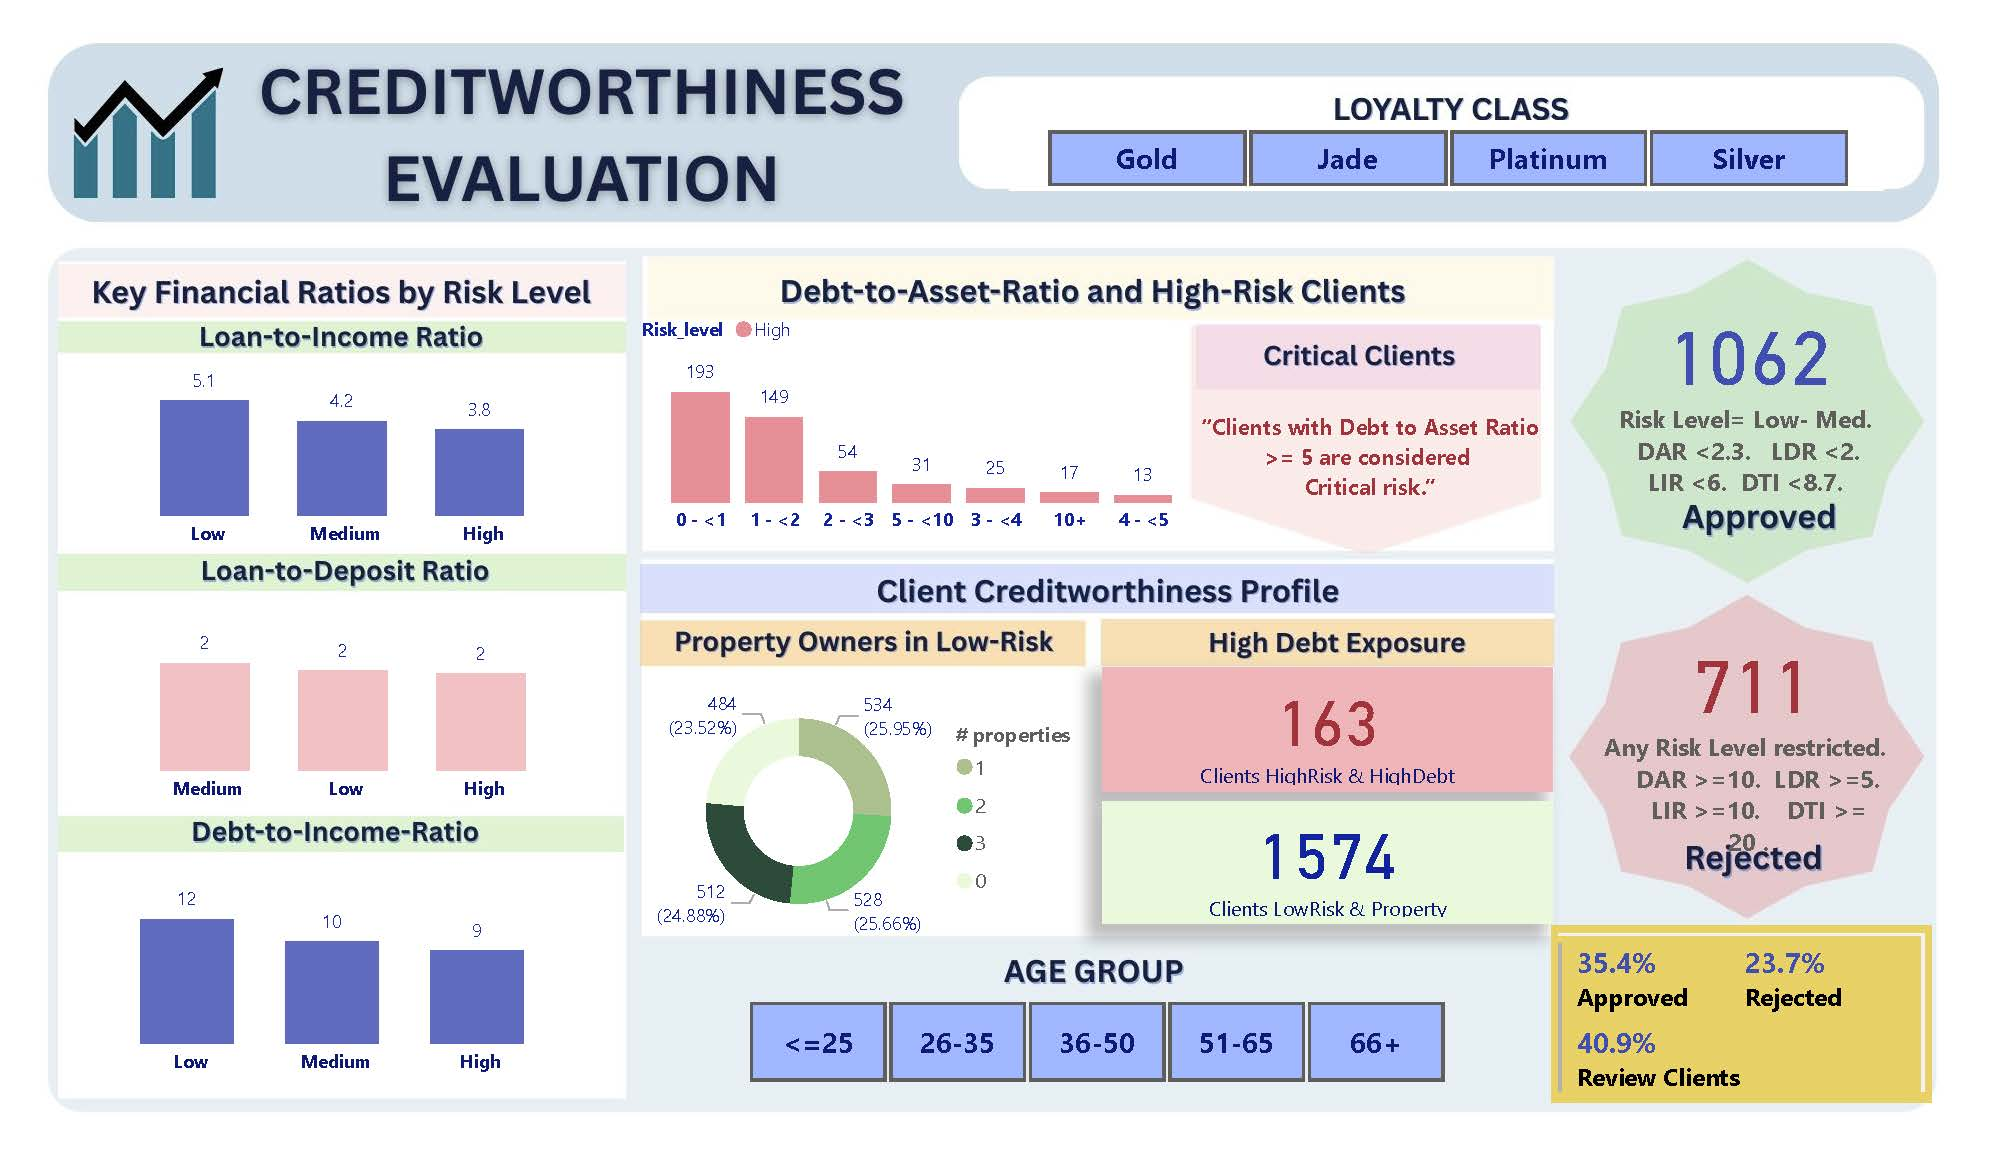

This screenshot's page, from the dashboard's own definition file:
{"tool":"powerbi","page":{"name":"Creditworthiness","canvas":[1280,720],"ordinal":2},"visuals":[{"type":"slicer","fields":{"Values":["Banking_final.loyalty_classification"]},"box":[648.7,55.7,583.1,47],"z":0},{"type":"clusteredColumnChart","fields":{"Category":["Banking_final.risk_level"],"Y":["Calculations.Loan_to_income_ratio_Avg"]},"box":[41.4,206.9,331.1,143.4],"z":1000},{"type":"slicer","fields":{"Values":["Banking_final.age_group"]},"box":[450.3,637.1,512.6,66.6],"z":2000},{"type":"clusteredColumnChart","fields":{"Category":["Banking_final.risk_level"],"Y":["Calculations.Loan_to_Deposit_AVG"]},"box":[40.9,377.6,331.8,142.4],"z":3000},{"type":"clusteredColumnChart","fields":{"Category":["Banking_final.risk_level"],"Y":["Calculations.Debt_to_income_AVG"]},"box":[26.1,551.7,347.5,150.6],"z":4000},{"type":"textbox","box":[768.7,244.9,241.3,96.5],"z":6000},{"type":"donutChart","fields":{"Category":["Banking_final.properties_owned"],"Y":["CountNonNull(Banking_final.client_id)"],"Series":["Banking_final.risk_level"]},"box":[398.7,421.9,312.8,189.5],"z":7000},{"type":"card","fields":{"Values":["Calculations.Clients_HighRisk_HighDebt"]},"box":[711,421.4,299.7,82.5],"z":8000},{"type":"card","fields":{"Values":["Calculations.Clients_LowRisk_With_Property"]},"box":[711,509.7,299.7,82.5],"z":9000},{"type":"card","fields":{"Values":["Calculations.Approved_Clients"]},"box":[1040.6,79.8,202.5,277.9],"z":10000},{"type":"card","fields":{"Values":["Calculations.Rejected_Clients"]},"box":[1028.7,304.5,230.6,269],"z":11000},{"type":"multiRowCard","fields":{"Values":["Calculations.Pct_Approved_Clients","Calculations.Pct_Rejected_Clients","Calculations.Pct_Review_Clients"]},"box":[1009.5,592.7,254.2,118.2],"z":12000},{"type":"clusteredColumnChart","fields":{"Category":["Banking_final.Debt_to_Asset_Bin"],"Y":["CountNonNull(Banking_final.client_id)"],"Series":["Banking_final.risk_level"]},"box":[399.1,175.9,384.3,165.5],"z":13000}]}

Visuals, with their boxes in screenshot pixels (x1, y1, x2, y2), scaled from the page's 1280x720 canvas onto the 1992x1152 screenshot:
slicer - Banking_final.loyalty_classification: locate(1010, 89, 1917, 164)
clusteredColumnChart - Banking_final.risk_level x Calculations.Loan_to_income_ratio_Avg: locate(64, 331, 580, 560)
slicer - Banking_final.age_group: locate(701, 1019, 1499, 1126)
clusteredColumnChart - Banking_final.risk_level x Calculations.Loan_to_Deposit_AVG: locate(64, 604, 580, 832)
clusteredColumnChart - Banking_final.risk_level x Calculations.Debt_to_income_AVG: locate(41, 883, 581, 1124)
textbox: locate(1196, 392, 1572, 546)
donutChart - Banking_final.properties_owned x CountNonNull(Banking_final.client_id): locate(620, 675, 1107, 978)
card - Calculations.Clients_HighRisk_HighDebt: locate(1106, 674, 1573, 806)
card - Calculations.Clients_LowRisk_With_Property: locate(1106, 816, 1573, 948)
card - Calculations.Approved_Clients: locate(1619, 128, 1935, 572)
card - Calculations.Rejected_Clients: locate(1601, 487, 1960, 918)
multiRowCard - Calculations.Pct_Approved_Clients x Calculations.Pct_Rejected_Clients: locate(1571, 948, 1967, 1137)
clusteredColumnChart - Banking_final.Debt_to_Asset_Bin x CountNonNull(Banking_final.client_id): locate(621, 281, 1219, 546)
